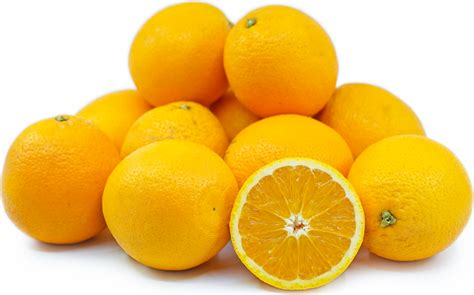orange: (100, 136, 241, 271), (350, 134, 474, 264), (2, 109, 114, 247), (224, 2, 342, 114), (122, 2, 239, 107)
